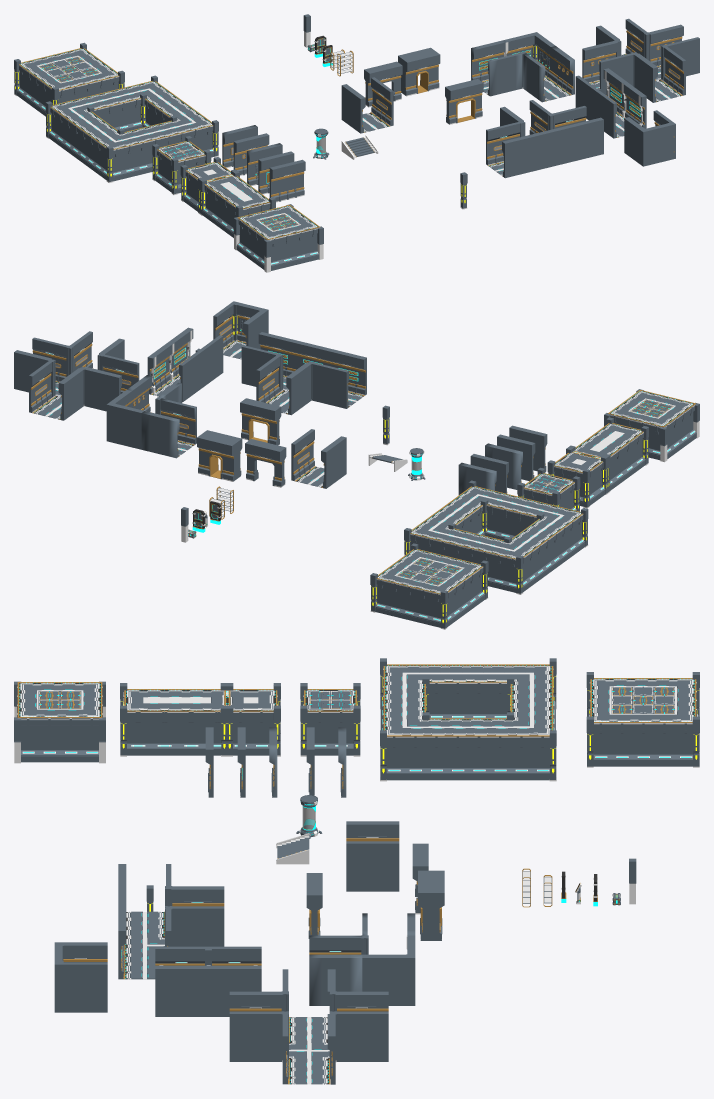
The model's file is SC_Solaris.fbx.
3 renders of one model, top to bottom at view 1: azimuth 30°, elevation 25°; view 2: azimuth 150°, elevation 25°; view 3: azimuth 270°, elevation 25°, orthographic. The views are drawn at different scales.
Parts seen in each view (by area): view 1: SM_Platform_Large, SM_Hallway_Cross, SM_Hallway_T, SM_Hallway_Corner, SM_Platform_Large_2, SM_Platform_Medium, SM_Hallway_Straight_Long, SM_Platform_Long, SM_Hallway_Cap, SM_Hallway, SM_Platform_Small, SM_Door_Single_Wall (+9 smaller); view 2: SM_Platform_Large, SM_Hallway_Cross, SM_Hallway_T, SM_Platform_Large_2, SM_Hallway_Corner, SM_Platform_Medium, SM_Hallway_Straight_Long, SM_Platform_Long, SM_Hallway, SM_Hallway_Cap, SM_Platform_Small_2, SM_Door_Single_Wall (+8 smaller); view 3: SM_Platform_Large, SM_Hallway_Cross, SM_Platform_Large_2, SM_Platform_Medium, SM_Platform_Long, SM_Hallway_T, SM_Hallway_Straight_Long, SM_Hallway_Corner, SM_Hallway, SM_Hallway_Cap, SM_Platform_Small, SM_Platform_Small_2 (+5 smaller).
Part boxes in pixels (bbox=[...]): SM_Platform_Large: bbox=[45, 75, 218, 182]; SM_Hallway_Cross: bbox=[582, 18, 699, 102]; SM_Hallway_T: bbox=[486, 100, 603, 178]; SM_Hallway_Corner: bbox=[471, 32, 574, 102]; SM_Platform_Large_2: bbox=[14, 42, 124, 116]; SM_Platform_Medium: bbox=[233, 204, 323, 272]; SM_Hallway_Straight_Long: bbox=[575, 68, 646, 138]; SM_Platform_Long: bbox=[198, 169, 275, 237]; SM_Hallway_Cap: bbox=[624, 110, 675, 166]; SM_Hallway: bbox=[341, 77, 393, 133]; SM_Platform_Small: bbox=[152, 136, 211, 194]; SM_Door_Single_Wall: bbox=[398, 47, 440, 96]; SM_Platform_Large: bbox=[404, 480, 588, 594]; SM_Hallway_Cross: bbox=[14, 331, 139, 420]; SM_Hallway_T: bbox=[241, 332, 366, 415]; SM_Platform_Large_2: bbox=[370, 543, 488, 629]; SM_Hallway_Corner: bbox=[106, 375, 196, 458]; SM_Platform_Medium: bbox=[604, 389, 699, 462]; SM_Hallway_Straight_Long: bbox=[147, 327, 223, 402]; SM_Platform_Long: bbox=[566, 417, 648, 494]; SM_Hallway: bbox=[291, 429, 346, 488]; SM_Hallway_Cap: bbox=[213, 301, 268, 359]; SM_Platform_Small_2: bbox=[547, 445, 610, 508]; SM_Door_Single_Wall: bbox=[197, 430, 242, 481]; SM_Platform_Large: bbox=[380, 658, 556, 781]; SM_Hallway_Cross: bbox=[229, 969, 388, 1084]; SM_Platform_Large_2: bbox=[586, 672, 699, 767]; SM_Platform_Medium: bbox=[14, 681, 105, 763]; SM_Platform_Long: bbox=[120, 683, 233, 756]; SM_Hallway_T: bbox=[118, 864, 224, 979]; SM_Hallway_Straight_Long: bbox=[155, 946, 261, 1016]; SM_Hallway_Corner: bbox=[309, 913, 415, 1005]; SM_Hallway: bbox=[346, 821, 399, 891]; SM_Hallway_Cap: bbox=[54, 942, 107, 1012]; SM_Platform_Small: bbox=[300, 683, 360, 756]; SM_Platform_Small_2: bbox=[220, 683, 280, 756].
Size of the model in its own units: 84.38 by 9.52 by 64.68.
